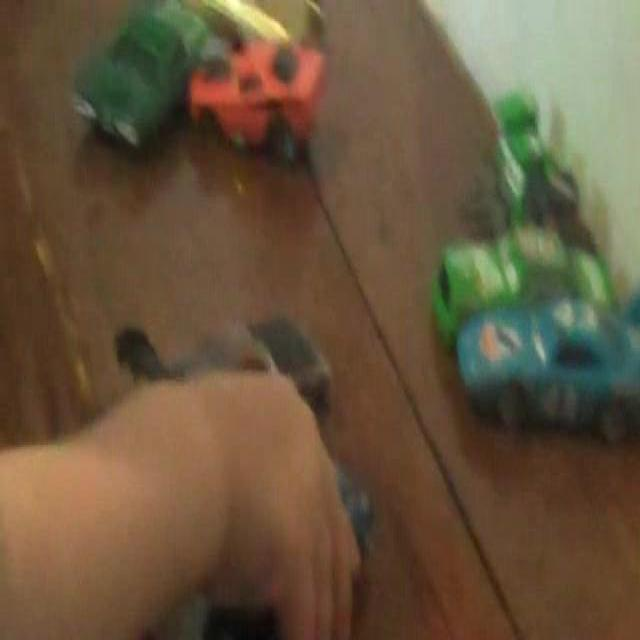other: (202, 24, 348, 142)
